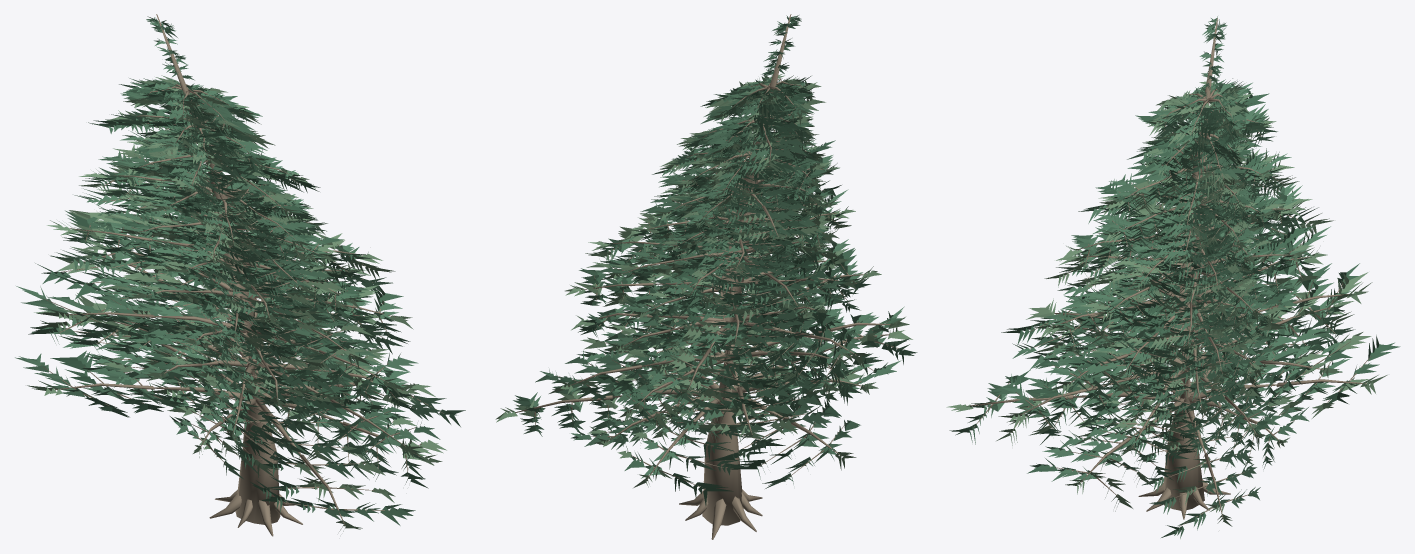
The model's file is cedar_7.glb.
3 renders of one model, left to right at view 1: azimuth 30°, elevation 25°; view 2: azimuth 150°, elevation 25°; view 3: azimuth 270°, elevation 25°, orthographic. The views are drawn at different scales.
Parts seen in each view (by area): view 1: tree_conifer_ConiferLeaf, tree_conifer_ConiferLeafLight, tree_conifer_ConiferLeafDark, tree_conifer_ConiferBark; view 2: tree_conifer_ConiferLeaf, tree_conifer_ConiferLeafLight, tree_conifer_ConiferLeafDark, tree_conifer_ConiferBark; view 3: tree_conifer_ConiferLeaf, tree_conifer_ConiferLeafLight, tree_conifer_ConiferLeafDark, tree_conifer_ConiferBark.
Boxes of the visible parts, x1,y1,x2,y2 form: tree_conifer_ConiferLeaf: (15, 16, 446, 525); tree_conifer_ConiferLeafLight: (27, 75, 446, 531); tree_conifer_ConiferLeafDark: (30, 79, 465, 512); tree_conifer_ConiferBark: (40, 14, 443, 536); tree_conifer_ConiferLeaf: (513, 15, 909, 488); tree_conifer_ConiferLeafLight: (495, 73, 912, 487); tree_conifer_ConiferLeafDark: (515, 76, 917, 505); tree_conifer_ConiferBark: (515, 14, 902, 539); tree_conifer_ConiferLeaf: (949, 16, 1358, 530); tree_conifer_ConiferLeafLight: (946, 75, 1387, 526); tree_conifer_ConiferLeafDark: (1001, 79, 1400, 538); tree_conifer_ConiferBark: (966, 18, 1371, 527).
Bounding box in the file's own units: 9.32 × 11.87 × 10.9.
